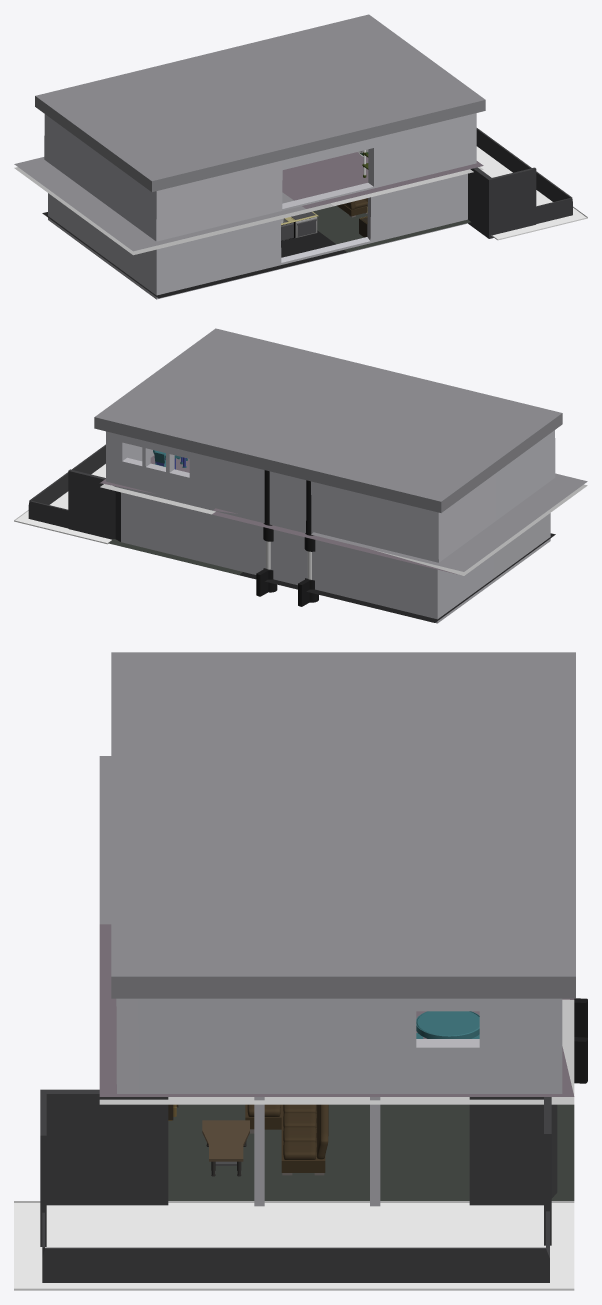
Rendered from 3daptm.gltf.
3 views of the same model, one above another, from view 1: azimuth 30°, elevation 25°; view 2: azimuth 150°, elevation 25°; view 3: azimuth 270°, elevation 25° (orthographic). The views are drawn at different scales.
Visible parts, largest first — view 1: Cube.036, Cube.318, Cube.014, Cube.006, Cube.016, Cube.005, ^0A6FB32C8DC72FF21F137A84B2B04C22FA8228053090CCF372^pimgpsh. (×2), Cube.003, ^0A6FB32C8DC72FF21F137A84B2B04C22FA8228053090CCF372^pimgpsh_, Cylinder.010, Cube.015, Cube.017 (+1 smaller); view 2: Cube.036, Cube.318, Cube.014, Cube.006, Cube.016, Cube.011, ^0A6FB32C8DC72FF21F137A84B2B04C22FA8228053090CCF372^pimgpsh. (×2), Cube.003, ^0A6FB32C8DC72FF21F137A84B2B04C22FA8228053090CCF372^pimgpsh_, Cube.010, Cube.017; view 3: Cube.036, ^0A6FB32C8DC72FF21F137A84B2B04C22FA8228053090CCF372^pimgpsh. (×2), Cube.006, Cube.318, Cube.005, Cube.003, Cube.008, Cube.014, Cube.016, Circle.000, Cylinder.005, Cube.011.
Boxes of the visible parts, x1,y1,x2,y2 form: Cube.036: (35, 14, 485, 191); Cube.318: (44, 113, 476, 241); Cube.014: (48, 173, 467, 299); Cube.006: (468, 128, 572, 238); Cube.016: (14, 157, 305, 251); Cube.005: (282, 152, 483, 208); ^0A6FB32C8DC72FF21F137A84B2B04C22FA8228053090CCF372^pimgpsh. (×2): (313, 146, 587, 252); Cube.003: (14, 167, 483, 255); ^0A6FB32C8DC72FF21F137A84B2B04C22FA8228053090CCF372^pimgpsh_: (42, 212, 346, 298); Cylinder.010: (281, 211, 318, 240); Cube.015: (281, 237, 369, 262); Cube.017: (282, 148, 373, 208); Cube.036: (94, 328, 562, 512); Cube.318: (106, 430, 555, 562); Cube.014: (121, 492, 550, 623); Cube.006: (28, 444, 120, 541); Cube.016: (311, 473, 587, 571); Cube.011: (256, 470, 318, 606); ^0A6FB32C8DC72FF21F137A84B2B04C22FA8228053090CCF372^pimgpsh. (×2): (14, 464, 242, 574); Cube.003: (100, 484, 587, 575); ^0A6FB32C8DC72FF21F137A84B2B04C22FA8228053090CCF372^pimgpsh_: (239, 533, 555, 622); Cube.010: (212, 511, 459, 574); Cube.017: (122, 442, 189, 477); Cube.036: (111, 652, 575, 998); ^0A6FB32C8DC72FF21F137A84B2B04C22FA8228053090CCF372^pimgpsh. (×2): (14, 1104, 574, 1290); Cube.006: (40, 1089, 557, 1282); Cube.318: (116, 998, 562, 1093); Cube.005: (99, 924, 574, 1096); Cube.003: (99, 999, 574, 1104); Cube.008: (245, 1104, 328, 1175); Cube.014: (254, 1097, 380, 1206); Cube.016: (99, 756, 111, 924); Circle.000: (202, 1120, 249, 1176); Cylinder.005: (416, 1011, 479, 1038); Cube.011: (574, 998, 587, 1083).
Size of the model in its own units: 7.48 by 2.16 by 4.31.
